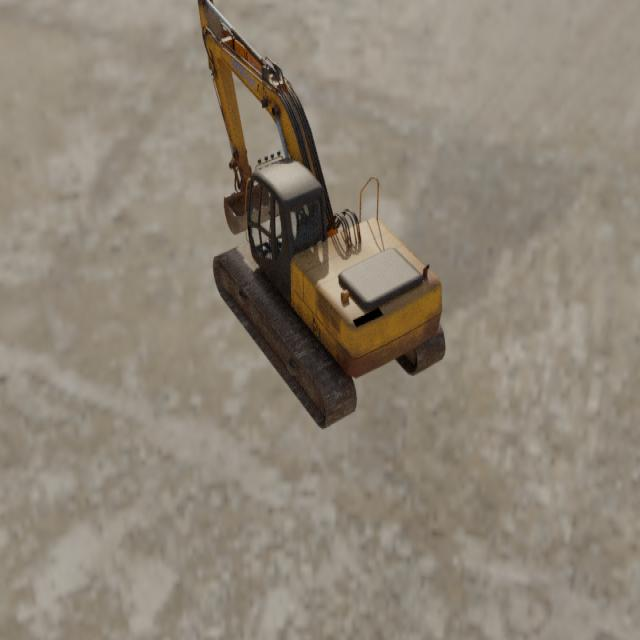excavator: (197, 0, 446, 431)
